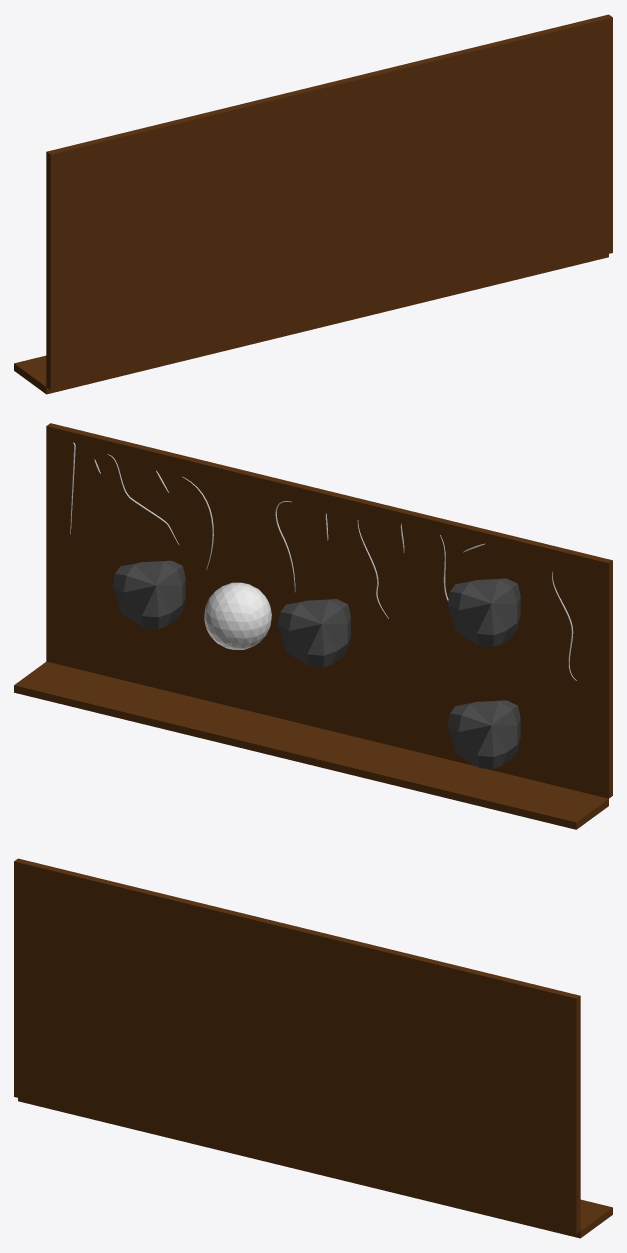
The model's file is Dirt_Platform.fbx.
3 views of the same model, one above another, from view 1: azimuth 30°, elevation 25°; view 2: azimuth 150°, elevation 25°; view 3: azimuth 330°, elevation 25° (orthographic).
Visible parts, largest first — view 1: Cube.001; view 2: Cube.001, Cube.003, Cube.005, Cube.004, Cube.002, Icosphere, BezierCurve; view 3: Cube.001.
Part boxes in pixels (<box>): Cube.001: <box>14,14,612,394</box>; Cube.001: <box>14,423,612,829</box>; Cube.003: <box>447,700,520,768</box>; Cube.005: <box>447,578,520,646</box>; Cube.004: <box>112,560,185,629</box>; Cube.002: <box>277,599,350,667</box>; Icosphere: <box>204,582,271,649</box>; BezierCurve: <box>70,442,576,680</box>; Cube.001: <box>14,858,612,1238</box>.
Size of the model in its own units: 2000 by 825 by 231.
